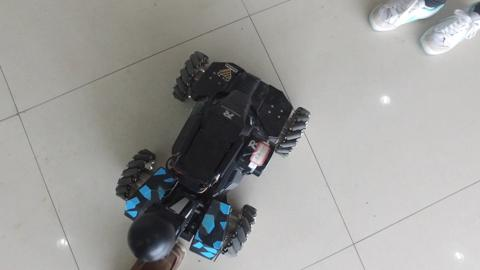chariot: (102, 41, 314, 246)
